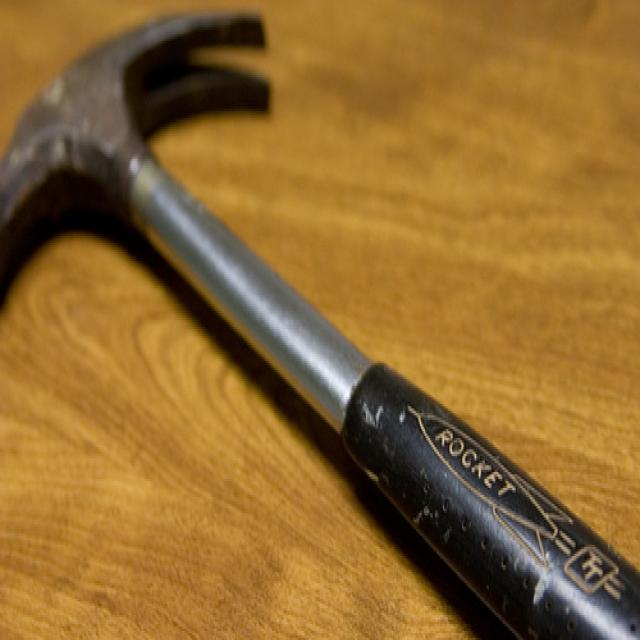hammer: (0, 0, 462, 543)
